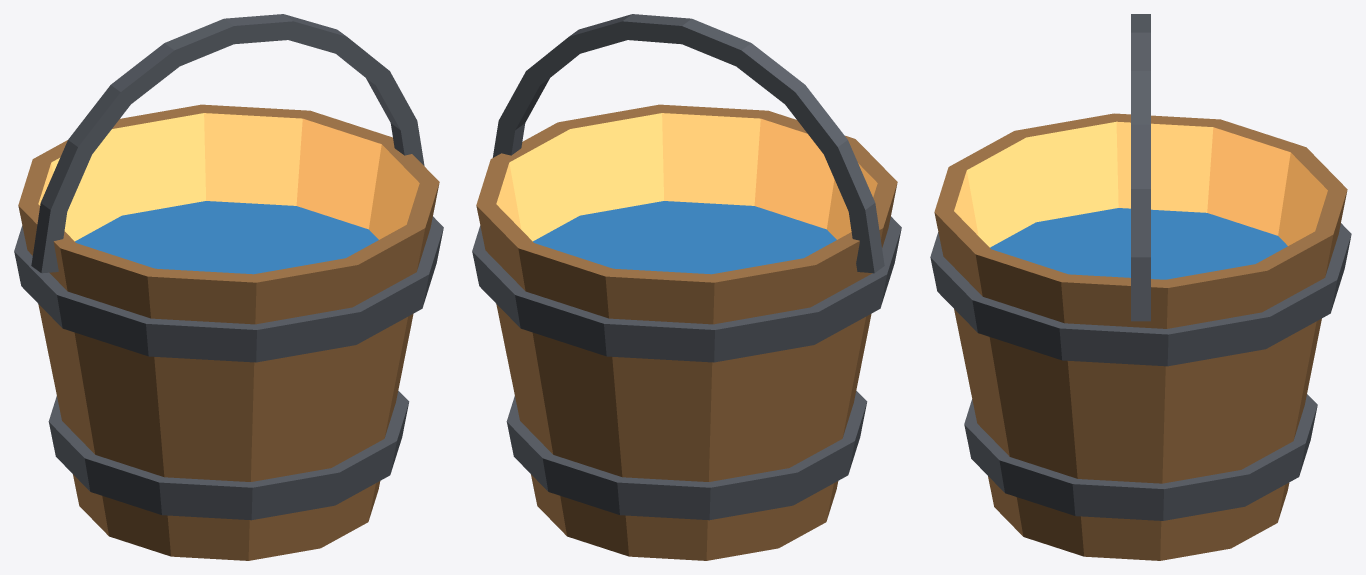
The model's file is bucket.glb.
3 renders of one model, left to right at view 1: azimuth 30°, elevation 25°; view 2: azimuth 150°, elevation 25°; view 3: azimuth 270°, elevation 25°, orthographic.
Parts seen in each view (by area): view 1: Body, Inside, Hoop.001, Water, Handle, Hoop; view 2: Body, Inside, Hoop.001, Water, Handle, Hoop; view 3: Body, Inside, Hoop.001, Hoop, Water, Handle.
Part boxes in pixels (x1,y1,x2,y2): Body: (18,104,439,560); Inside: (38,113,419,241); Hoop.001: (14,216,443,362); Water: (75,201,378,274); Handle: (31,14,424,273); Hoop: (48,391,409,520); Body: (476,104,897,560); Inside: (496,113,877,241); Hoop.001: (472,216,901,362); Water: (533,201,836,274); Handle: (492,14,884,273); Hoop: (506,391,867,520); Body: (934,113,1347,560); Inside: (954,121,1327,247); Hoop.001: (930,223,1351,366); Hoop: (964,394,1317,520); Water: (990,208,1287,279); Handle: (1131,14,1150,321).
Size of the model in its own units: 0.3978 by 0.469 by 0.3842.
